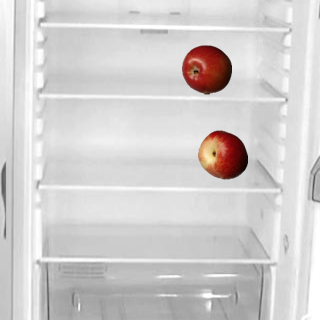Apple Braeburn: (181, 44, 231, 94)
Nectarine: (197, 129, 247, 179)
